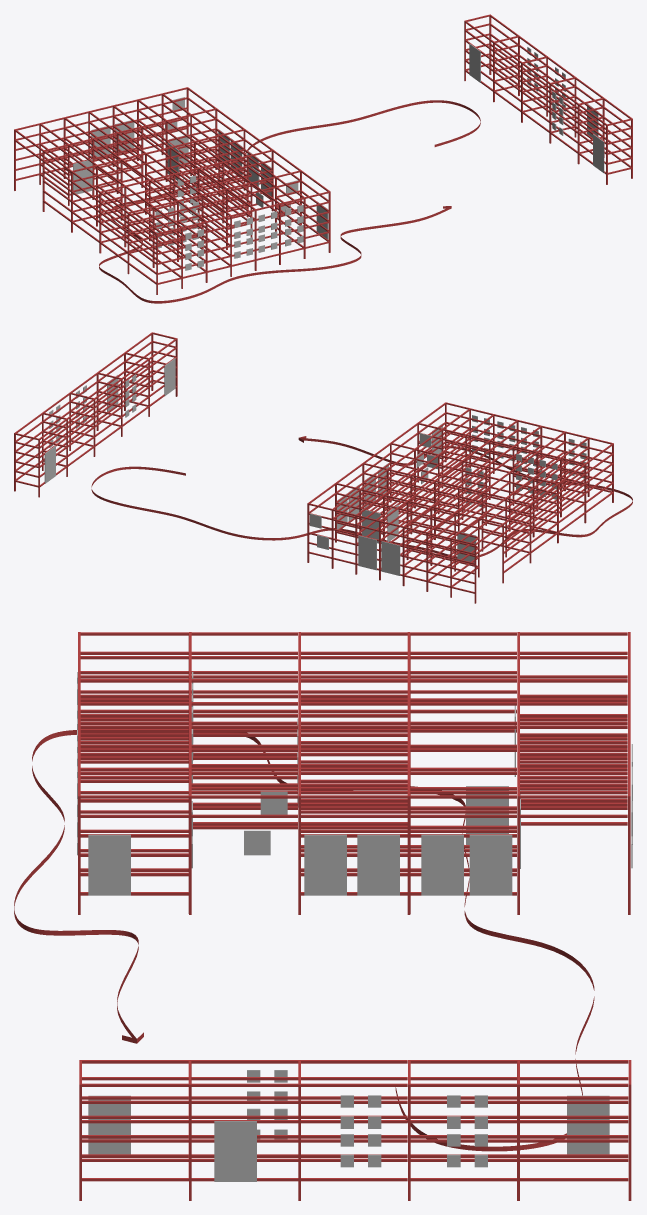
File: MODELLO4.obj
3 views of the same model, one above another, from view 1: azimuth 30°, elevation 25°; view 2: azimuth 150°, elevation 25°; view 3: azimuth 270°, elevation 25° (orthographic). The views are drawn at different scales.
Visible parts, largest first — view 1: Obj_000615, Obj_000147, Obj_000332, Obj_000338, Obj_000334, Obj_000335, Obj_000333, Obj_000336, Obj_000337; view 2: Obj_000615, Obj_000520, Obj_000146, Obj_000337, Obj_000332, Obj_000336, Obj_000335, Obj_000334, Obj_000333, Obj_000348; view 3: Obj_000615, Obj_000179, Obj_000486, Obj_000485, Obj_000181, Obj_000180, Obj_000597, Obj_000095, Obj_000094, Obj_000490.
Part boxes in pixels (<box>): Obj_000615: <box>99,100,480,303</box>; Obj_000147: <box>73,159,92,195</box>; Obj_000332: <box>156,191,330,234</box>; Obj_000338: <box>156,241,330,284</box>; Obj_000334: <box>127,170,301,213</box>; Obj_000335: <box>99,149,273,193</box>; Obj_000333: <box>71,128,244,172</box>; Obj_000336: <box>42,108,216,151</box>; Obj_000337: <box>14,87,187,130</box>; Obj_000615: <box>91,437,632,558</box>; Obj_000520: <box>381,541,400,575</box>; Obj_000146: <box>358,535,376,570</box>; Obj_000337: <box>307,503,476,545</box>; Obj_000332: <box>445,402,613,444</box>; Obj_000336: <box>335,483,504,525</box>; Obj_000335: <box>390,442,558,485</box>; Obj_000334: <box>417,422,586,464</box>; Obj_000333: <box>363,462,531,504</box>; Obj_000348: <box>308,513,476,554</box>; Obj_000615: <box>14,730,594,1151</box>; Obj_000179: <box>469,834,512,895</box>; Obj_000486: <box>421,834,463,895</box>; Obj_000485: <box>304,834,346,895</box>; Obj_000181: <box>88,834,130,895</box>; Obj_000180: <box>357,834,399,895</box>; Obj_000597: <box>214,1121,256,1181</box>; Obj_000095: <box>88,1095,130,1154</box>; Obj_000094: <box>567,1095,609,1154</box>; Obj_000490: <box>466,786,508,844</box>.
Bounding box in the file's own units: 20691 × 2450 × 11594.
